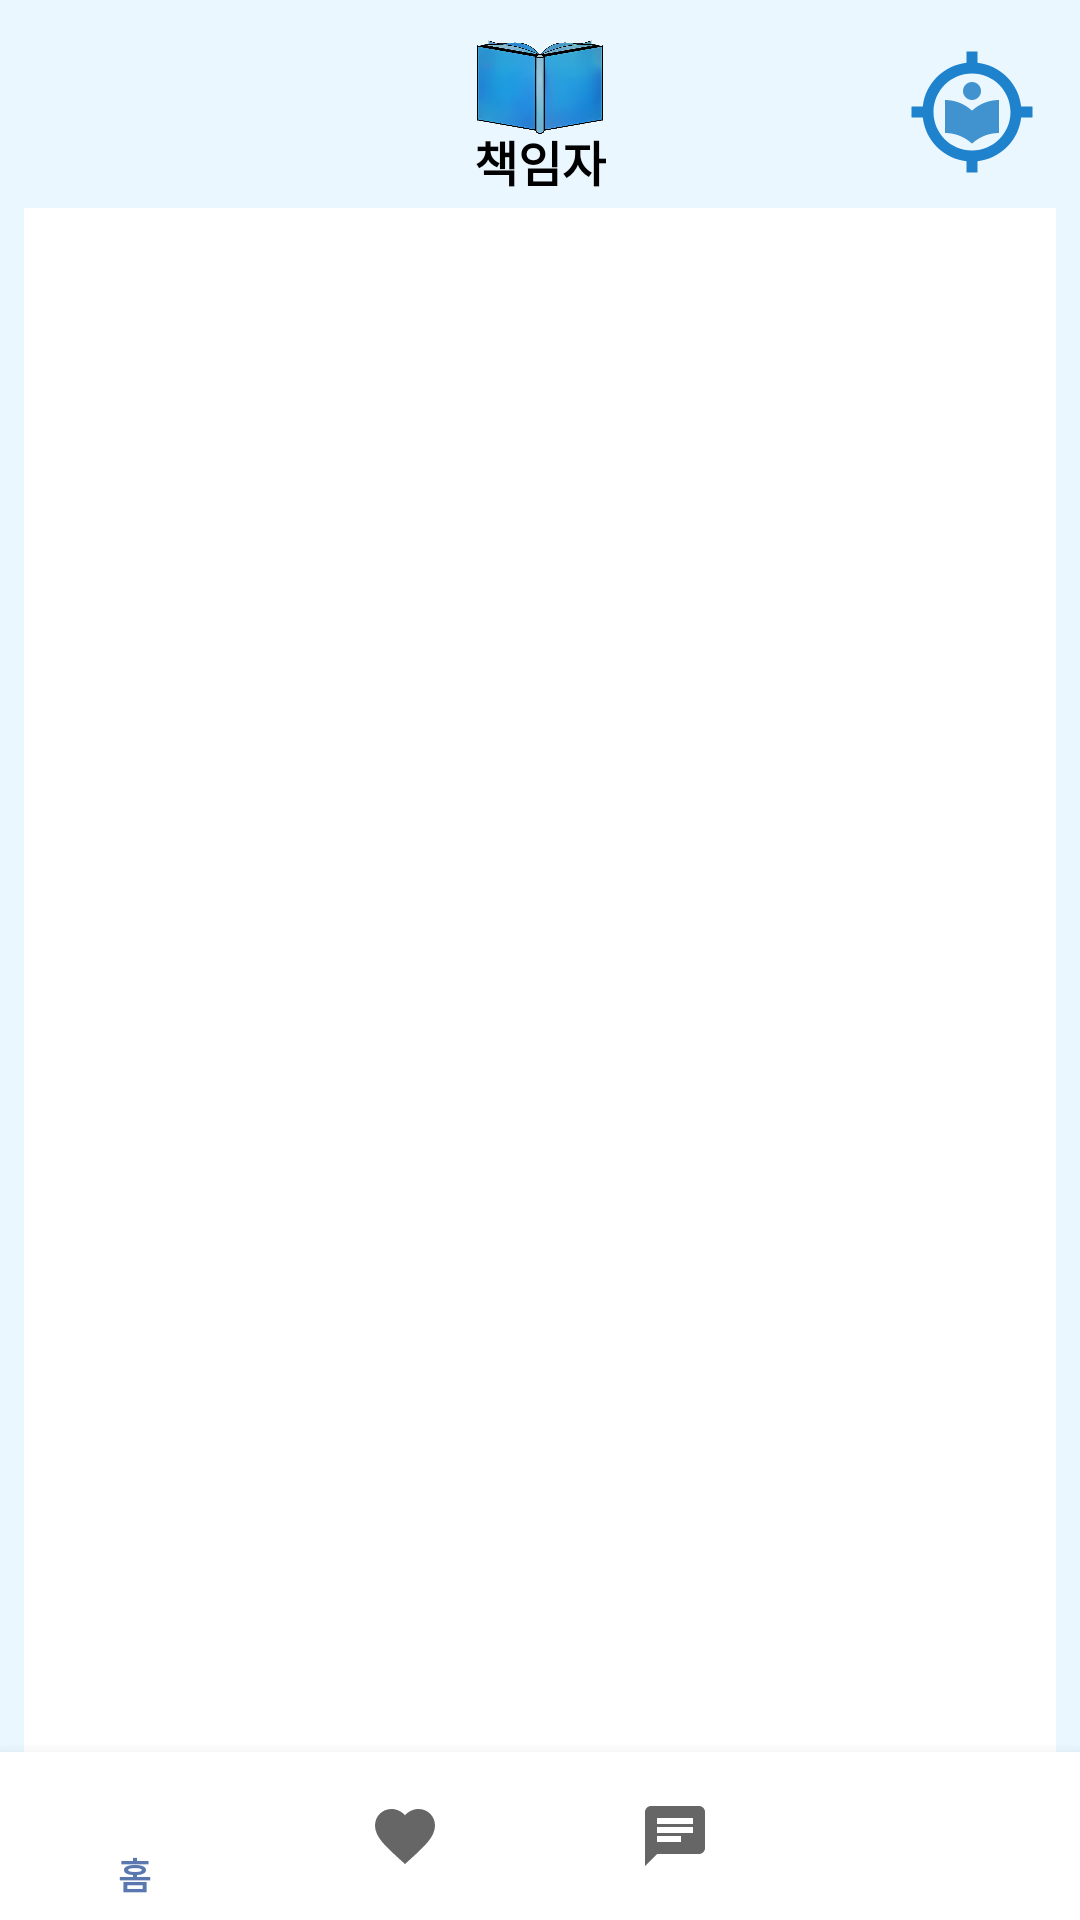

Named icons in this screenshot (1080w x 1920h) and their bounding boxes, (x1, y1, x2, y2):
book: (477, 40, 603, 134)
